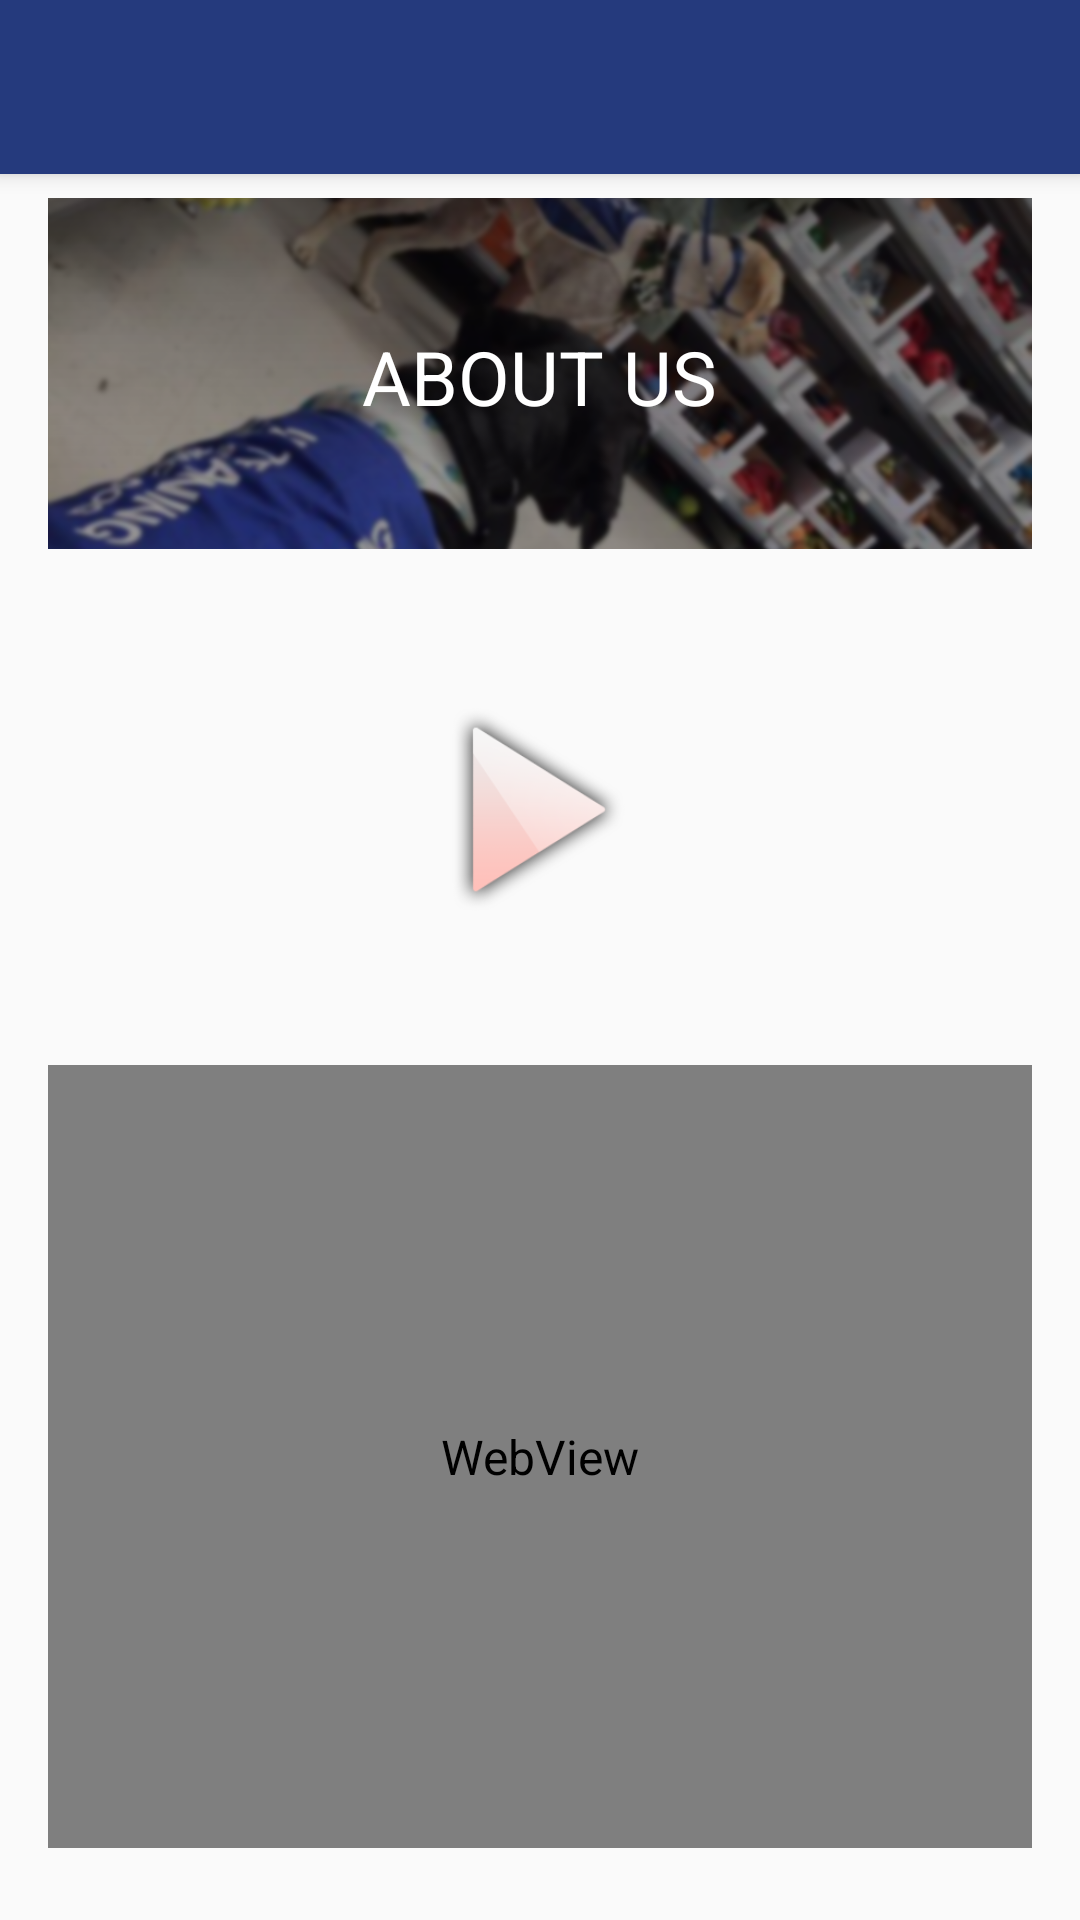

Locate icon controls on the screen. Image size 1080w x 1920h, boxes as (x1, y1, x2, y2).
play: (461, 720, 612, 899)
